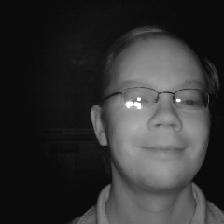happy: (78, 21, 224, 201)
